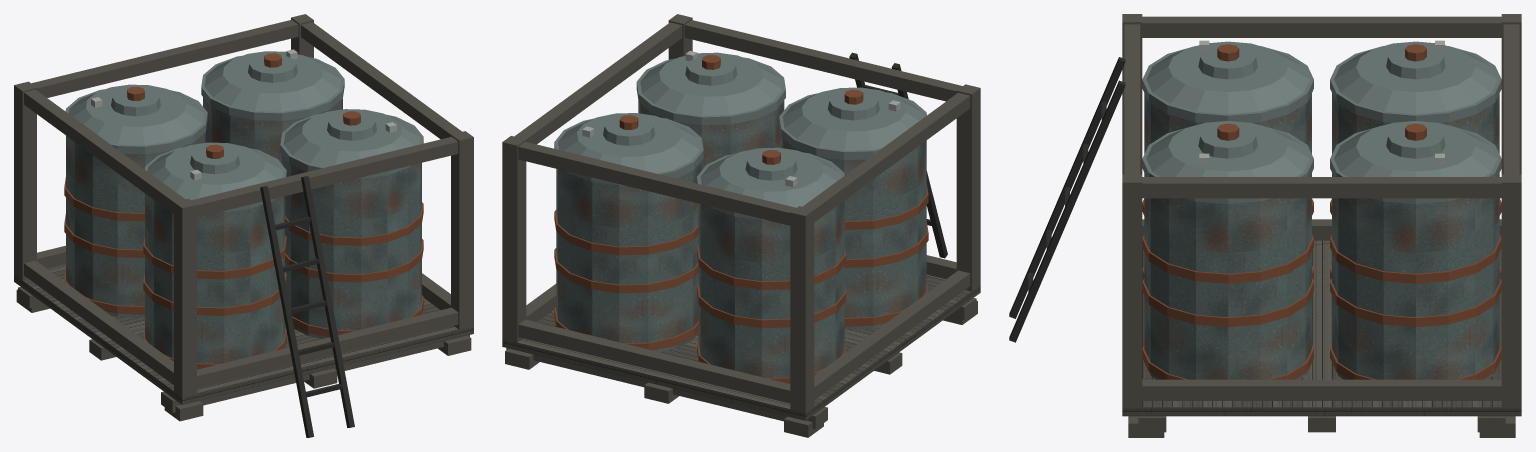
Rendered from fuelDump.glb.
3 renders of one model, left to right at view 1: azimuth 30°, elevation 25°; view 2: azimuth 150°, elevation 25°; view 3: azimuth 270°, elevation 25°, orthographic. The views are drawn at different scales.
Visible parts, largest first — view 1: fut_corps (×4), lisse (×8), fut_couvercle (×4), poteau (×4), fut_cercle (×8), plancher, echelle_montant (×2), fut_tampon (×4), fut_rebord (×3), longeron, pied (×3); view 2: fut_corps (×4), lisse (×8), fut_couvercle (×4), poteau (×4), fut_cercle (×8), plancher, fut_tampon (×4), fut_rebord (×3), longeron, pied (×3), echelle_montant; view 3: fut_corps (×4), lisse (×6), fut_couvercle (×4), poteau (×4), plancher, fut_cercle (×6), fut_rebord (×4), fut_tampon (×4), echelle_montant (×2), longeron (×2).
Boxes of the visible parts, <box> form: fut_corps (×4): <box>66,97,421,363</box>; lisse (×8): <box>15,19,472,389</box>; fut_couvercle (×4): <box>68,51,420,200</box>; poteau (×4): <box>14,14,473,397</box>; fut_cercle (×8): <box>64,177,423,337</box>; plancher: <box>14,264,473,404</box>; echelle_montant (×2): <box>260,176,354,437</box>; fut_tampon (×4): <box>111,55,376,174</box>; fut_rebord (×3): <box>65,56,423,178</box>; longeron: <box>161,335,469,412</box>; pied (×3): <box>164,335,471,421</box>; fut_corps (×4): <box>556,100,926,377</box>; lisse (×8): <box>503,20,978,407</box>; fut_couvercle (×4): <box>558,52,923,207</box>; poteau (×4): <box>502,14,980,412</box>; fut_cercle (×8): <box>554,183,928,350</box>; plancher: <box>502,274,980,420</box>; fut_tampon (×4): <box>603,56,879,180</box>; fut_rebord (×3): <box>554,57,926,185</box>; longeron: <box>506,348,827,428</box>; pied (×3): <box>505,348,823,437</box>; echelle_montant: <box>891,63,947,258</box>; fut_corps (×4): <box>1144,93,1499,379</box>; lisse (×6): <box>1124,16,1519,400</box>; fut_couvercle (×4): <box>1146,41,1497,176</box>; poteau (×4): <box>1122,14,1521,407</box>; plancher: <box>1122,240,1521,416</box>; fut_cercle (×6): <box>1142,234,1501,379</box>; fut_rebord (×4): <box>1142,46,1501,204</box>; fut_tampon (×4): <box>1198,46,1445,158</box>; echelle_montant (×2): <box>1009,57,1125,342</box>; longeron (×2): <box>1138,416,1505,432</box>.
Bounding box in the file's own units: 2.04 × 1.47 × 2.57.
Materials: 7 (2 with a texture image).
